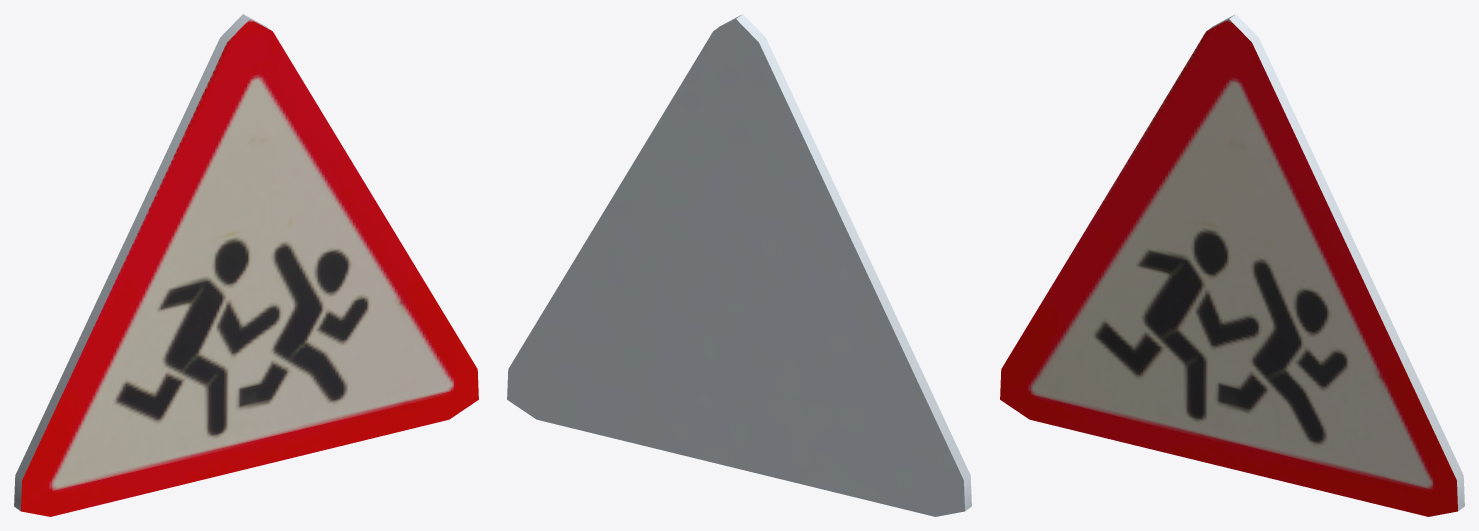
The model's file is SIgnBoard_10.fbx.
3 renders of one model, left to right at view 1: azimuth 30°, elevation 25°; view 2: azimuth 150°, elevation 25°; view 3: azimuth 330°, elevation 25°, orthographic.
Visible parts, largest first — view 1: SIgnBoard_10; view 2: SIgnBoard_10; view 3: SIgnBoard_10.
Part boxes in pixels (x1,y1,x2,y2): SIgnBoard_10: [14, 14, 478, 516]; SIgnBoard_10: [507, 14, 971, 516]; SIgnBoard_10: [1000, 14, 1464, 516].
Size of the model in its own units: 0.9863 by 0.9245 by 0.0255.
